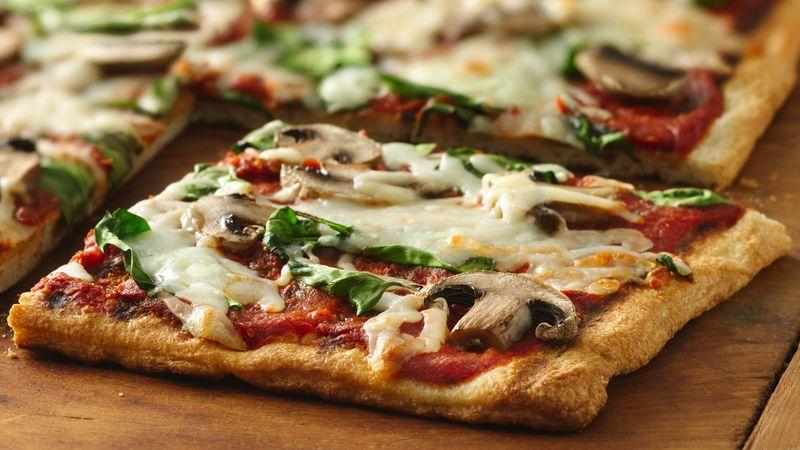champignon: (419, 267, 588, 358), (179, 191, 279, 255)
